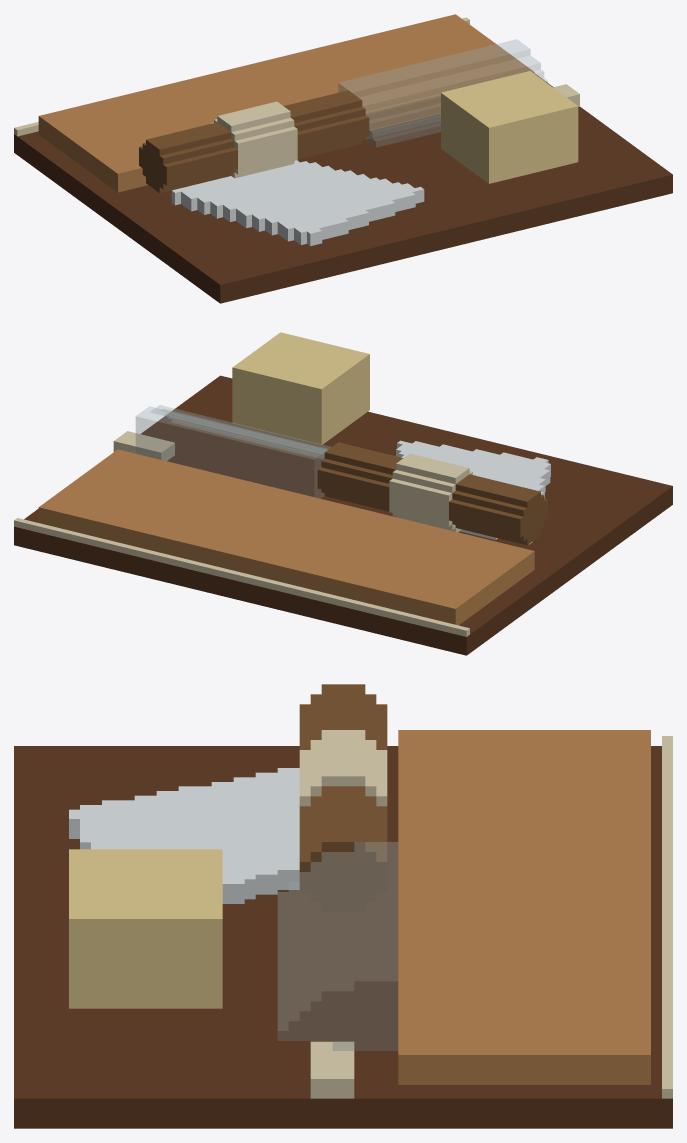
File: survivor_shavingkit.glb
The picture shows the model from 3 angles, top to bottom: view 1: azimuth 30°, elevation 25°; view 2: azimuth 150°, elevation 25°; view 3: azimuth 270°, elevation 25°; orthographic projection. The views are drawn at different scales.
Visible parts, largest first — view 1: survivor_shavingkit:compound; view 2: survivor_shavingkit:compound; view 3: survivor_shavingkit:compound.
Part boxes in pixels (x1,y1,x2,y2): survivor_shavingkit:compound: [14, 14, 672, 303]; survivor_shavingkit:compound: [14, 332, 672, 655]; survivor_shavingkit:compound: [14, 684, 672, 1128].
Bounding box in the file's own units: 0.152 × 0.03 × 0.12.
